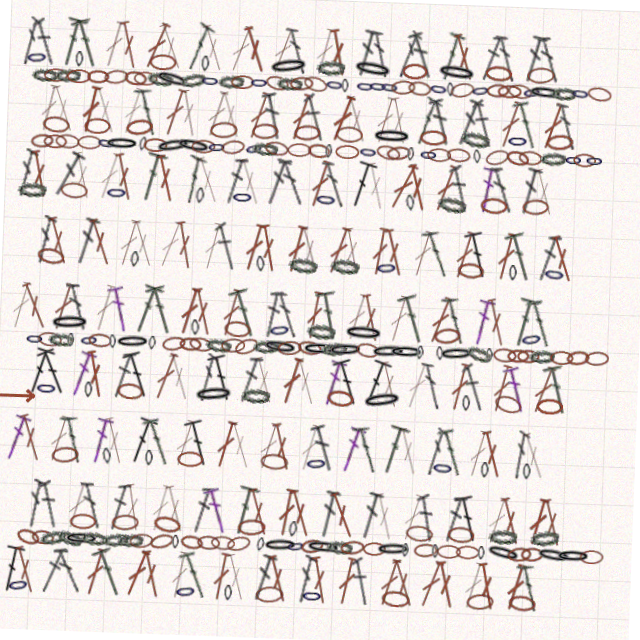chain: (364, 387, 406, 409), (259, 57, 300, 78), (343, 57, 384, 78), (427, 58, 468, 78), (196, 388, 237, 408), (145, 74, 182, 96), (493, 536, 530, 557), (149, 141, 185, 161), (496, 386, 526, 409), (169, 141, 205, 160), (50, 323, 90, 340), (344, 323, 384, 340), (544, 538, 580, 556), (365, 126, 405, 142), (453, 124, 484, 144), (432, 190, 463, 210), (537, 520, 568, 540), (263, 340, 299, 357), (234, 338, 261, 360), (466, 338, 494, 359), (118, 124, 147, 144), (34, 256, 63, 276), (160, 520, 189, 540), (519, 77, 555, 93), (170, 75, 198, 95), (329, 341, 364, 357), (372, 341, 407, 357), (440, 341, 475, 357), (47, 537, 75, 557), (64, 537, 92, 557), (314, 539, 349, 555), (478, 141, 505, 161), (286, 257, 316, 275), (434, 322, 462, 341), (329, 388, 357, 407), (116, 341, 151, 356), (271, 539, 306, 554), (384, 539, 419, 554), (265, 587, 294, 605), (391, 587, 420, 605), (23, 537, 49, 557), (157, 537, 183, 557), (328, 257, 358, 274), (35, 125, 63, 143), (539, 125, 567, 143), (224, 323, 252, 341), (119, 389, 147, 407), (56, 455, 84, 473), (413, 521, 441, 539), (110, 538, 138, 556), (476, 587, 504, 605), (518, 587, 546, 605), (294, 75, 320, 94), (369, 141, 395, 160), (234, 537, 260, 556), (307, 59, 336, 76), (307, 323, 336, 340), (265, 455, 294, 472), (98, 144, 133, 158), (303, 342, 338, 356), (390, 342, 425, 356), (72, 540, 107, 554), (564, 540, 599, 554), (518, 59, 546, 76), (203, 125, 231, 142), (455, 257, 483, 274), (245, 521, 273, 538), (441, 76, 467, 94), (162, 340, 188, 358), (189, 340, 215, 358), (13, 192, 42, 208), (244, 390, 273, 406), (496, 522, 525, 538), (476, 59, 503, 76), (245, 125, 272, 142), (287, 125, 314, 142), (329, 125, 356, 142), (56, 191, 83, 208), (476, 191, 503, 208), (518, 191, 545, 208), (322, 340, 349, 357), (119, 521, 146, 538), (455, 521, 482, 538), (268, 322, 292, 341), (520, 322, 544, 341), (16, 586, 40, 605), (256, 76, 281, 94), (499, 142, 524, 160), (578, 76, 604, 93), (214, 142, 240, 159), (140, 60, 167, 76), (138, 77, 165, 93), (209, 77, 236, 93), (77, 126, 104, 142), (413, 126, 440, 142), (206, 341, 233, 357), (539, 390, 566, 406), (182, 456, 209, 472), (77, 522, 104, 538), (125, 539, 152, 555), (95, 76, 120, 93), (499, 76, 524, 93), (258, 142, 283, 159), (380, 142, 405, 159), (298, 340, 323, 357), (356, 340, 381, 357), (308, 538, 333, 555), (348, 538, 373, 555), (393, 60, 419, 76), (541, 257, 564, 275), (184, 587, 207, 605), (567, 340, 591, 357), (38, 341, 63, 357), (278, 341, 303, 357), (137, 539, 162, 555), (515, 539, 540, 555), (237, 142, 259, 160), (16, 59, 39, 76), (310, 191, 333, 208), (373, 257, 396, 274), (310, 455, 333, 472), (46, 77, 72, 92), (534, 143, 560, 158), (254, 341, 280, 356), (530, 341, 556, 356), (89, 539, 115, 554), (335, 539, 361, 554), (115, 77, 139, 93), (399, 77, 423, 93), (24, 143, 48, 159), (301, 143, 325, 159), (39, 539, 63, 555), (188, 539, 212, 555), (382, 77, 407, 92), (440, 143, 465, 158), (512, 143, 537, 158), (437, 455, 459, 472), (23, 78, 49, 92), (268, 78, 294, 92), (542, 78, 568, 92), (246, 144, 272, 158), (49, 342, 75, 356), (281, 77, 305, 92), (49, 143, 73, 158), (89, 341, 113, 356), (222, 341, 246, 356), (494, 341, 518, 356), (586, 341, 610, 356), (219, 539, 243, 554), (422, 539, 446, 554), (500, 126, 522, 142), (101, 192, 123, 208), (227, 192, 249, 208), (38, 390, 60, 406), (311, 588, 333, 604), (478, 77, 501, 92), (205, 539, 228, 554), (529, 539, 552, 554), (35, 78, 59, 92), (58, 78, 82, 92), (125, 78, 149, 92), (222, 78, 246, 92), (489, 78, 513, 92), (513, 77, 534, 93), (37, 144, 61, 158), (71, 144, 95, 158), (137, 144, 161, 158), (185, 144, 209, 158), (281, 144, 305, 158), (329, 144, 353, 158), (421, 144, 445, 158), (551, 342, 575, 356), (445, 540, 469, 554), (464, 540, 488, 554), (588, 540, 612, 554), (78, 78, 101, 92), (567, 144, 590, 158), (180, 342, 203, 356), (508, 342, 531, 356), (518, 342, 541, 356), (371, 540, 394, 554), (371, 77, 391, 93), (420, 77, 440, 93), (462, 77, 482, 93), (90, 143, 110, 159), (294, 539, 314, 555), (316, 77, 336, 92), (562, 77, 582, 92), (352, 143, 372, 158), (80, 341, 100, 356), (360, 77, 379, 92), (192, 78, 211, 92), (241, 78, 260, 92), (347, 78, 366, 92), (201, 144, 220, 158), (413, 144, 432, 158), (558, 144, 577, 158), (579, 144, 598, 158), (26, 342, 45, 356), (401, 191, 411, 208), (107, 455, 117, 472), (191, 192, 200, 208), (128, 258, 137, 274), (254, 258, 263, 274), (191, 324, 200, 340), (296, 522, 305, 538), (132, 143, 141, 158), (264, 539, 273, 554), (66, 60, 74, 76), (192, 60, 200, 76), (507, 258, 515, 274), (87, 390, 95, 406), (465, 390, 473, 406), (150, 456, 158, 472), (486, 456, 494, 472), (528, 456, 536, 472), (234, 588, 242, 604), (438, 78, 446, 92), (467, 144, 475, 158), (149, 342, 157, 356), (417, 342, 425, 356), (437, 342, 445, 356), (333, 78, 340, 92), (319, 144, 326, 158), (401, 144, 408, 158), (68, 342, 75, 356), (110, 342, 117, 356), (487, 342, 494, 356), (180, 540, 187, 554), (410, 540, 417, 554), (440, 540, 447, 554), (486, 540, 493, 554)
double: (100, 554, 137, 606), (37, 356, 74, 407), (129, 290, 164, 342), (227, 290, 262, 342), (45, 159, 81, 209), (60, 26, 94, 78), (501, 224, 535, 276), (144, 290, 178, 342), (396, 290, 430, 342), (381, 159, 416, 209), (172, 26, 206, 77), (123, 356, 157, 407), (333, 356, 367, 407), (361, 356, 395, 407), (403, 92, 436, 143), (25, 356, 58, 407), (130, 422, 163, 473), (382, 422, 415, 473), (186, 554, 219, 605), (18, 291, 51, 341), (333, 489, 366, 539), (131, 158, 163, 209), (341, 158, 373, 209), (418, 224, 450, 275), (208, 356, 240, 407), (544, 356, 576, 407), (145, 422, 177, 473), (187, 422, 219, 473), (131, 27, 163, 77), (145, 27, 177, 77), (47, 26, 78, 77), (425, 26, 456, 77), (460, 224, 491, 275), (509, 290, 540, 341), (236, 488, 267, 539), (460, 488, 491, 539), (397, 27, 428, 77), (40, 93, 71, 143), (320, 93, 351, 143), (446, 93, 477, 143), (187, 159, 218, 209), (82, 225, 113, 275), (152, 225, 183, 275), (425, 291, 456, 341), (523, 423, 554, 473), (131, 555, 162, 605), (425, 555, 456, 605), (503, 92, 533, 143), (314, 290, 344, 341), (524, 290, 554, 341), (356, 422, 386, 473), (440, 422, 470, 473), (188, 27, 218, 77), (216, 27, 246, 77), (230, 27, 260, 77), (258, 27, 288, 77), (83, 93, 113, 143), (531, 93, 561, 143), (230, 159, 260, 209), (426, 159, 456, 209), (125, 225, 155, 275), (321, 225, 351, 275), (545, 225, 575, 275), (69, 357, 99, 407), (153, 357, 183, 407), (531, 357, 561, 407), (6, 423, 36, 473), (20, 423, 50, 473), (398, 555, 428, 605), (440, 290, 469, 341), (62, 555, 92, 604), (440, 27, 469, 77), (111, 93, 140, 143), (125, 93, 154, 143), (153, 93, 182, 143), (195, 93, 224, 143), (209, 93, 238, 143), (237, 93, 266, 143), (279, 93, 308, 143), (335, 93, 364, 143), (489, 93, 518, 143), (90, 159, 119, 209), (258, 159, 287, 209), (41, 225, 70, 275), (293, 225, 322, 275), (167, 357, 196, 407), (293, 357, 322, 407), (405, 357, 434, 407), (230, 423, 259, 473), (314, 423, 343, 473), (342, 423, 371, 473), (209, 489, 238, 539), (251, 489, 280, 539), (293, 489, 322, 539), (405, 489, 434, 539), (20, 555, 49, 605), (48, 555, 77, 604), (420, 93, 448, 143), (301, 159, 329, 209), (525, 159, 553, 209), (70, 225, 98, 275), (112, 225, 140, 275), (406, 225, 434, 275), (448, 225, 476, 275), (49, 291, 77, 341), (175, 291, 203, 341), (343, 291, 371, 341), (252, 357, 280, 407), (280, 357, 308, 407), (504, 357, 532, 407), (49, 423, 77, 473), (63, 423, 91, 473), (175, 423, 203, 473), (259, 423, 287, 473), (399, 423, 427, 473), (483, 423, 511, 473), (70, 489, 98, 539), (168, 489, 196, 539), (490, 489, 518, 539), (504, 489, 532, 539), (7, 555, 35, 605), (231, 555, 259, 605), (259, 555, 287, 605), (273, 555, 301, 605), (385, 555, 413, 605), (469, 555, 497, 605), (511, 555, 539, 605), (21, 27, 49, 76), (385, 27, 413, 76), (462, 357, 490, 406), (91, 27, 118, 77), (511, 27, 538, 77), (364, 93, 391, 143), (147, 159, 174, 209), (175, 159, 202, 209), (399, 159, 426, 209), (238, 225, 265, 275), (378, 225, 405, 275), (7, 291, 34, 341), (91, 291, 118, 341), (189, 291, 216, 341), (385, 291, 412, 341), (483, 291, 510, 341), (322, 357, 349, 407), (378, 357, 405, 407), (105, 423, 132, 473), (217, 423, 244, 473), (273, 423, 300, 473), (301, 423, 328, 473), (469, 423, 496, 473), (154, 489, 181, 539), (378, 489, 405, 539), (532, 489, 559, 539), (546, 489, 573, 539), (91, 555, 118, 605), (147, 555, 174, 605), (525, 555, 552, 605), (469, 27, 496, 76), (294, 93, 321, 142), (273, 159, 300, 208), (210, 225, 237, 274), (106, 27, 132, 77), (302, 27, 328, 77), (344, 27, 370, 77), (253, 93, 279, 143), (64, 159, 90, 209), (106, 159, 132, 209), (358, 159, 384, 209), (512, 159, 538, 209), (197, 225, 223, 275), (281, 225, 307, 275), (491, 225, 517, 275), (106, 291, 132, 341), (218, 291, 244, 341), (358, 291, 384, 341), (449, 357, 475, 407), (491, 357, 517, 407), (92, 423, 118, 473), (365, 489, 391, 539), (442, 555, 468, 605), (463, 93, 489, 142), (316, 159, 342, 208), (533, 225, 559, 274), (239, 357, 265, 406), (316, 27, 341, 77), (29, 93, 54, 143), (71, 93, 96, 143), (169, 93, 194, 143), (379, 93, 404, 143), (22, 159, 47, 209), (337, 225, 362, 275), (470, 291, 495, 341), (85, 357, 110, 407), (344, 555, 369, 605), (484, 555, 509, 605), (8, 159, 33, 208), (218, 159, 243, 208), (484, 159, 509, 208), (29, 225, 54, 274), (274, 291, 299, 340), (113, 357, 138, 406), (428, 423, 453, 472), (197, 489, 222, 538), (449, 489, 474, 538), (302, 555, 327, 604), (170, 225, 194, 275), (254, 225, 278, 275), (324, 489, 348, 539), (177, 555, 201, 605), (317, 555, 341, 605), (275, 27, 299, 76), (527, 27, 551, 76), (443, 159, 467, 208), (44, 489, 68, 538), (114, 489, 138, 538), (128, 489, 151, 539), (219, 555, 242, 605), (9, 27, 32, 76), (485, 27, 508, 76), (548, 93, 571, 142), (471, 159, 494, 208), (366, 225, 389, 274), (65, 291, 88, 340), (303, 291, 326, 340), (198, 357, 221, 406), (30, 489, 53, 538), (282, 489, 305, 538), (359, 555, 382, 604), (423, 357, 445, 406), (87, 489, 109, 538), (360, 27, 381, 76), (262, 291, 283, 340), (423, 489, 444, 538), (515, 423, 535, 472)
noise: (1, 399, 40, 414)
